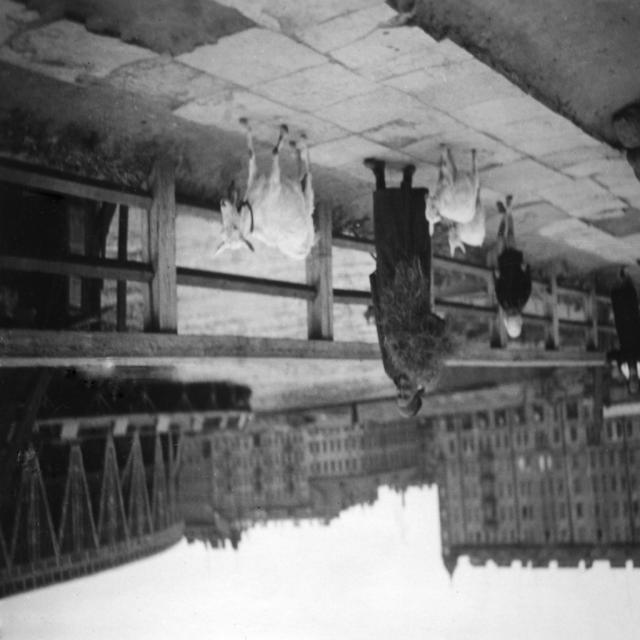Goat: (212, 118, 321, 263)
